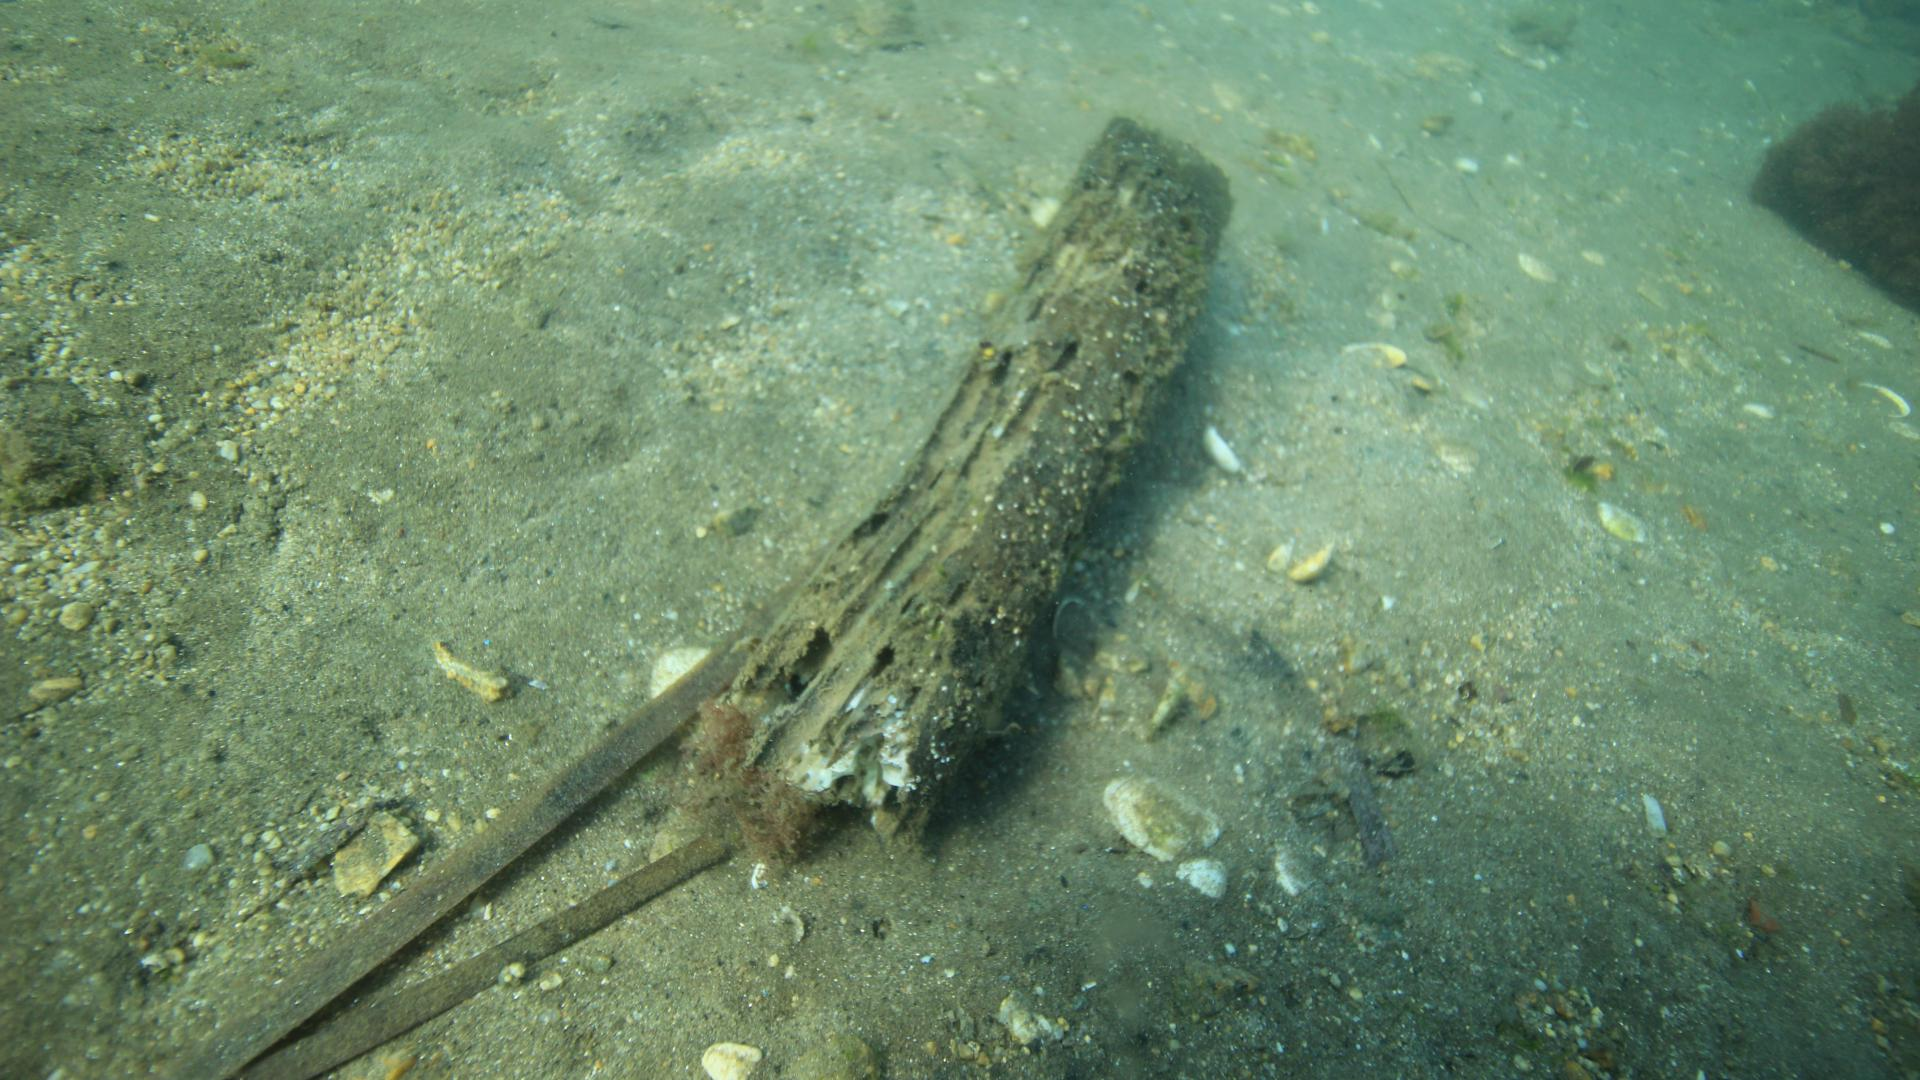wood: (735, 113, 1232, 845)
